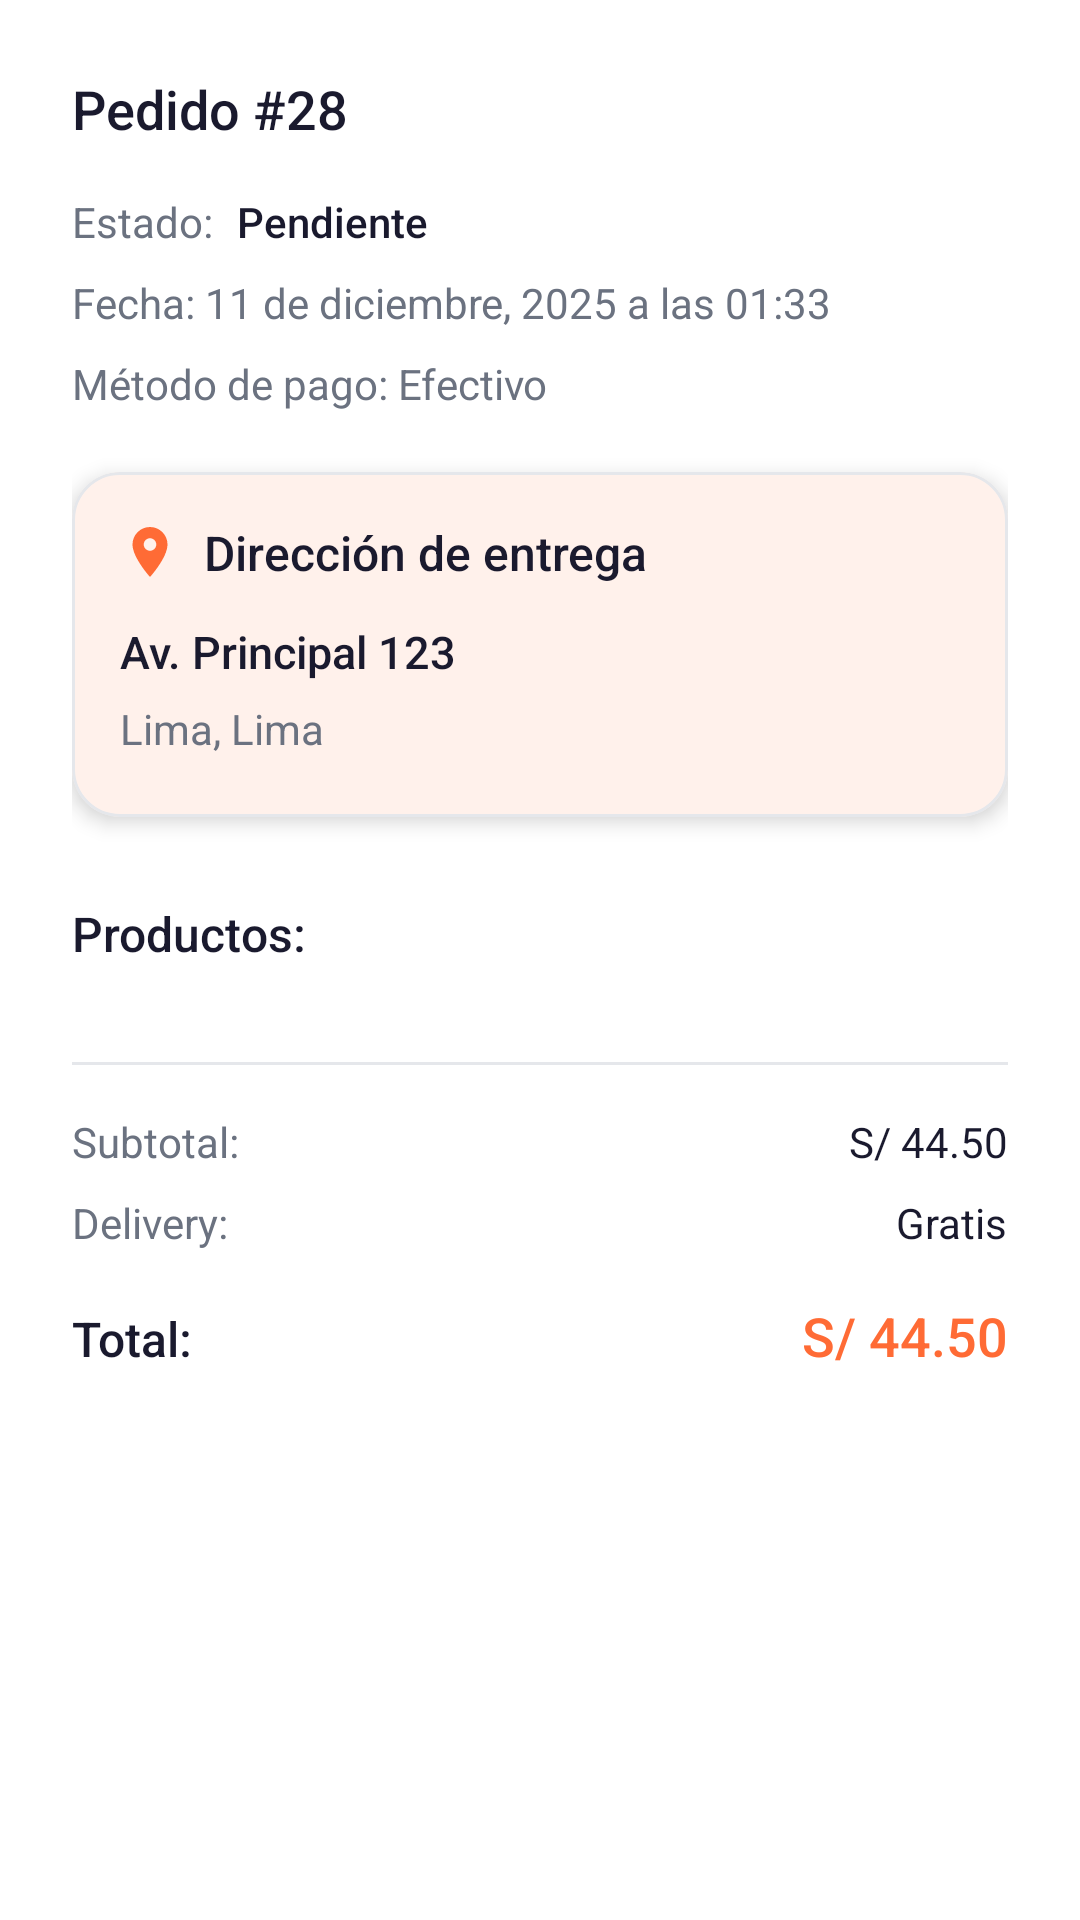

Locate icon controls on the screen. Image size 1080x1920, boxes as (x1, y1, x2, y2).
location: (132, 527, 168, 577)
